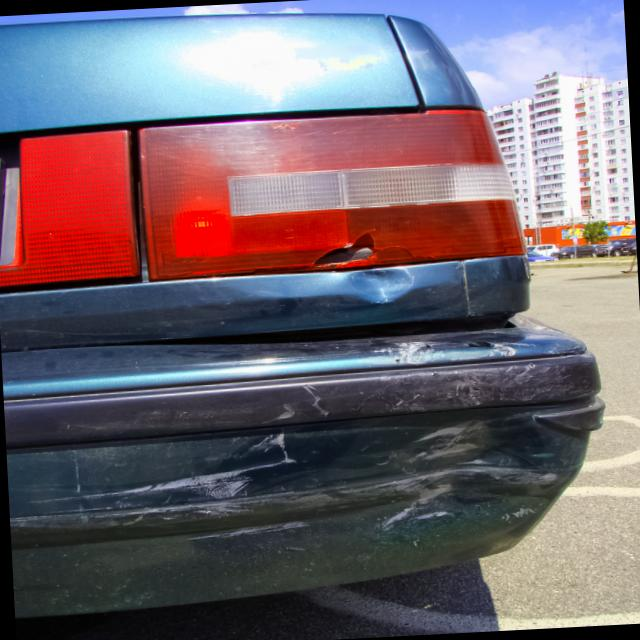Cabossage: (251, 402, 580, 551), (341, 263, 431, 311)
Phare abime: (282, 169, 459, 289)
Rayure: (67, 408, 575, 579)
